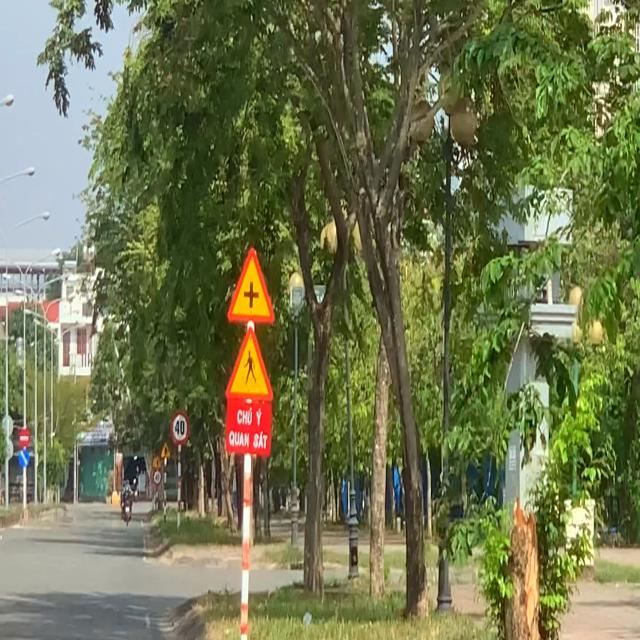Cam nguoc chieu: (18, 425, 32, 446)
Duong giao nhau: (224, 238, 276, 328)
Hieu lenh: (18, 447, 32, 470)
Nguoi di bo cat ngang: (224, 323, 274, 405)
Toc do toi da: (169, 409, 191, 445)
